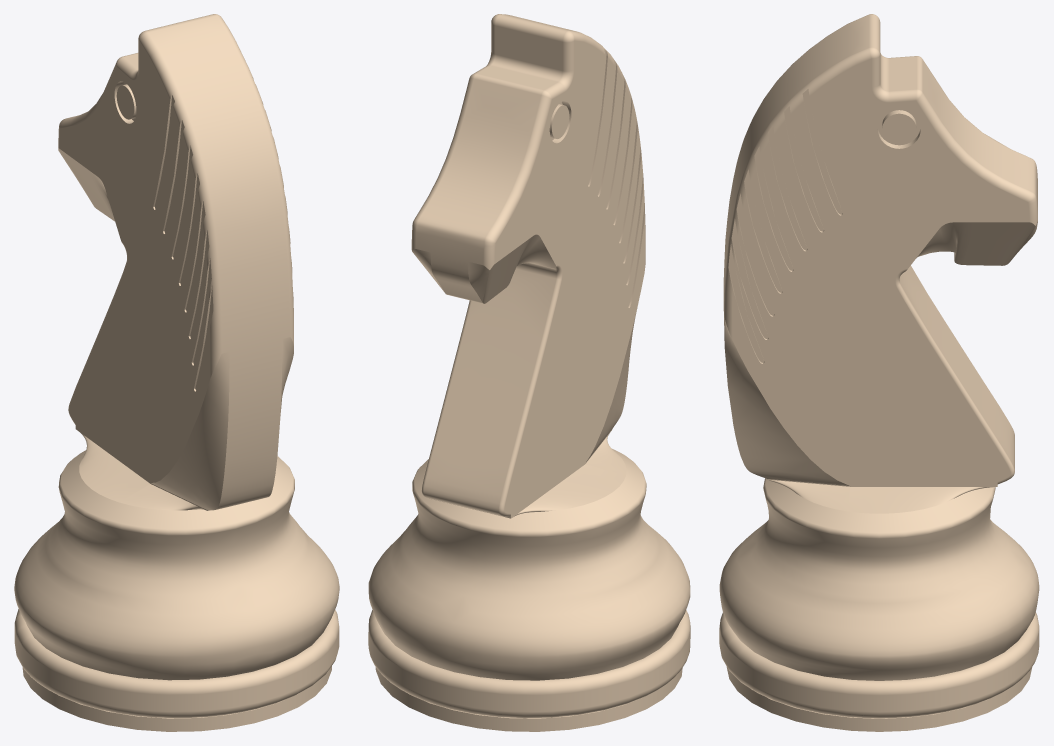
Rendered from knight.fbx.
The picture shows the model from 3 angles, left to right: view 1: azimuth 30°, elevation 25°; view 2: azimuth 150°, elevation 25°; view 3: azimuth 270°, elevation 25°; orthographic projection.
Parts seen in each view (by area): view 1: knight; view 2: knight; view 3: knight.
Part boxes in pixels (left/top/right/bottom): knight: left=14, top=14, right=339, bottom=731; knight: left=368, top=14, right=690, bottom=731; knight: left=719, top=14, right=1039, bottom=731.
Size of the model in its own units: 1.87 by 4.1 by 1.87.
